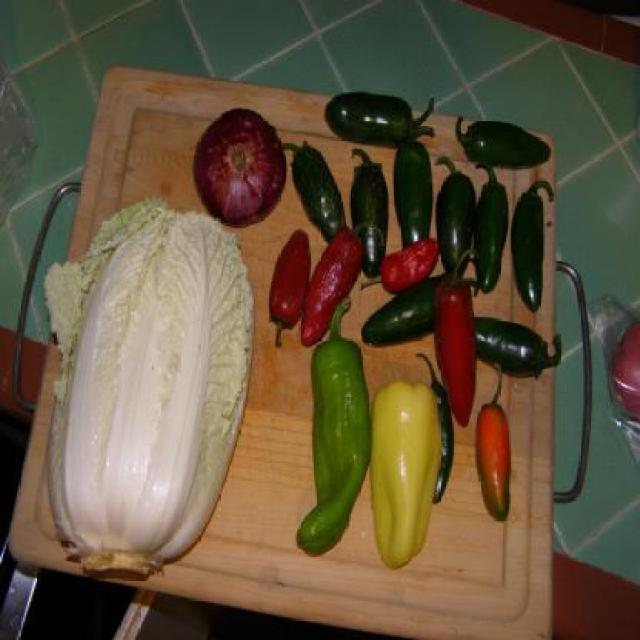Bell pepper: (297, 298, 372, 552), (370, 382, 442, 572)
